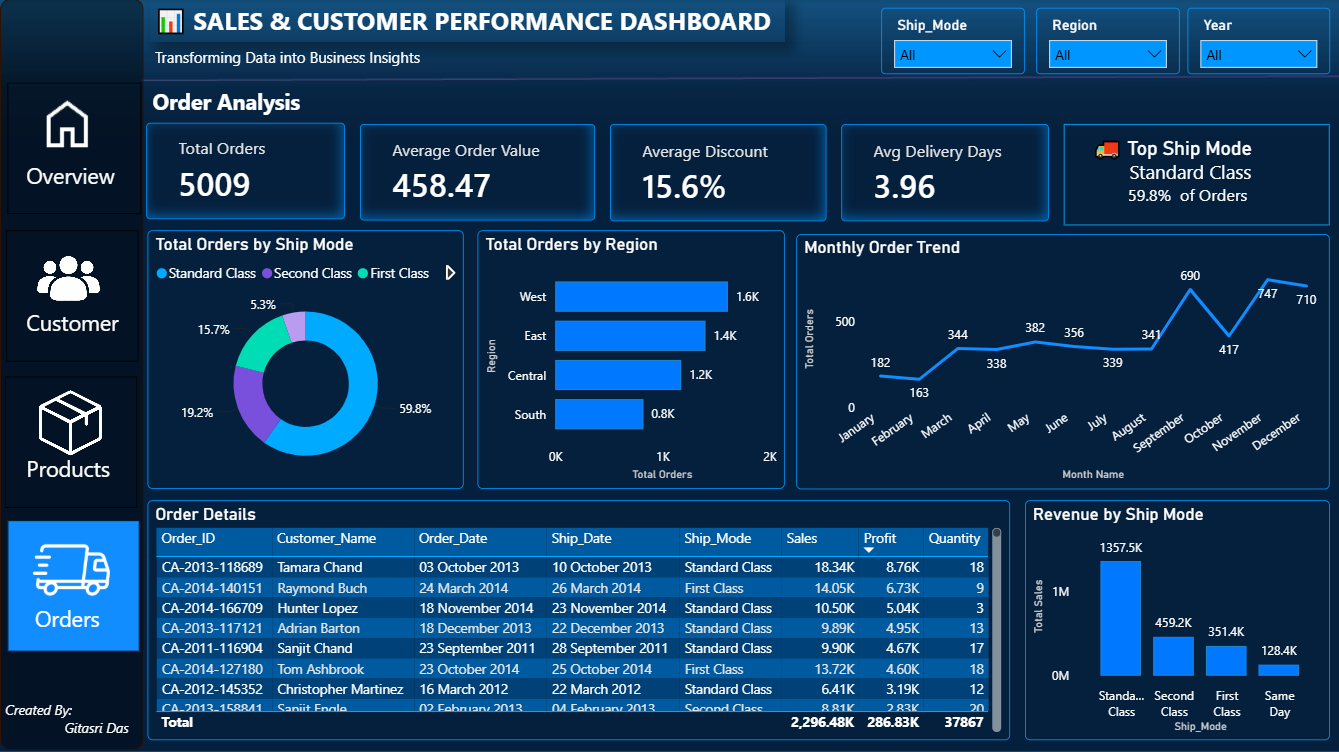

The dashboard page shown, as its layout file describes it:
{"tool":"powerbi","page":{"name":"Order Analysis Dashboard","canvas":[1325,746],"ordinal":3},"visuals":[{"type":"shape","box":[0,0,141.8,741.3],"z":0},{"type":"cardVisual","fields":{"Data":["SalesData.Total Orders"]},"box":[144.3,122.1,196.1,95],"z":1000},{"type":"cardVisual","fields":{"Data":["SalesData.Average Discount"]},"box":[601.9,123.3,213.4,96.2],"z":2000},{"type":"cardVisual","fields":{"Data":["SalesData.Average Order Value"]},"box":[355.2,123.3,231.9,95],"z":3000},{"type":"slicer","fields":{"Values":["SalesData.Region"]},"box":[1023,8.2,141.7,65.9],"z":4000},{"type":"slicer","fields":{"Values":["SalesData.Ship_Mode"]},"box":[870.1,8.2,141.7,65.9],"z":5000},{"type":"textbox","box":[147.9,0,626.5,42.3],"z":6000},{"type":"image","box":[30.8,92.5,71.5,61.7],"z":7000},{"type":"textbox","box":[21,154.2,104.8,41.9],"z":8000},{"type":"textbox","box":[147.9,42.3,274.7,41],"z":9000},{"type":"textbox","box":[145.5,81.4,249.2,54.3],"z":10000},{"type":"shape","box":[7.4,82.6,132,129.5],"z":11000},{"type":"textbox","box":[30.4,591.6,91.3,40.7],"z":12000,"group":"g2"},{"type":"textbox","box":[0,687.4,135.5,54.7],"z":12000},{"type":"shape","box":[6.2,228.2,130.7,129.5],"z":13000},{"type":"image","box":[17.7,525,106.5,76.1],"z":13000,"group":"g2"},{"type":"group","id":"g1","title":"Group 1","box":[21.6,232.1,104,107.8],"z":14000},{"type":"slicer","fields":{"Values":["DateTable.Year"]},"box":[1171.8,8.6,140.6,65.4],"z":15000},{"type":"tableEx","title":"Order Details","fields":{"Values":["SalesData.Order_ID","SalesData.Customer_Name","SalesData.Order_Date","SalesData.Ship_Date","SalesData.Ship_Mode","Sum(SalesData.Sales)","Sum(SalesData.Profit)","SalesData.Total Quantity Sold"]},"box":[145.8,494.6,851,237.2],"z":16000},{"type":"donutChart","title":"Total Orders by Ship Mode","fields":{"Category":["SalesData.Ship_Mode"],"Y":["SalesData.Total Orders"]},"box":[145.5,228.2,312.1,255.3],"z":17000},{"type":"lineChart","title":"Monthly Order Trend","fields":{"Y":["SalesData.Total Orders"],"Category":["DateTable.Month Name"]},"box":[785.7,231.9,526.7,251.6],"z":18000},{"type":"barChart","fields":{"Y":["SalesData.Total Orders"],"Category":["SalesData.Region"]},"box":[471.8,228.3,303.1,254.9],"z":19000},{"type":"shape","box":[7.6,514.9,130.6,129.4],"z":20000},{"type":"group","id":"g2","title":"Group 2","box":[17.7,525,106.5,107.3],"z":21000},{"type":"columnChart","title":"Revenue by Ship Mode","fields":{"Category":["SalesData.Ship_Mode"],"Y":["Sum(SalesData.Sales)"]},"box":[1011.4,494.6,301,236.8],"z":22000},{"type":"cardVisual","fields":{"Data":["SalesData.Avg Delivery Days"]},"box":[830.1,123.3,204.8,96.2],"z":23000},{"type":"shape","box":[4.9,372.5,130.7,129.5],"z":24000},{"type":"group","id":"g3","title":"Group 1","box":[21,377.2,104.8,107.6],"z":25000},{"type":"shape","box":[1049.7,123.3,262.7,99.9],"z":26000},{"type":"textbox","title":"🚚 Top Ship Mode","box":[1073.1,130.7,197.4,86.3],"z":27000},{"type":"image","box":[27.8,232.1,86.3,98.7],"z":29000,"group":"g1"},{"type":"image","box":[26,377.2,87.6,80.2],"z":29000,"group":"g3"},{"type":"textbox","box":[21.6,299.9,104.8,40.7],"z":31000,"group":"g1"},{"type":"textbox","box":[21,444.1,104.8,40.7],"z":31000,"group":"g3"}]}

Visuals, with their boxes in screenshot pixels (x1, y1, x2, y2), scaled from the page's 1325x746 canvas onto the 1339x752 screenshot:
shape: x1=0, y1=0, x2=143, y2=747
cardVisual - SalesData.Total Orders: x1=146, y1=123, x2=344, y2=219
cardVisual - SalesData.Average Discount: x1=608, y1=124, x2=824, y2=221
cardVisual - SalesData.Average Order Value: x1=359, y1=124, x2=593, y2=220
slicer - SalesData.Region: x1=1034, y1=8, x2=1177, y2=75
slicer - SalesData.Ship_Mode: x1=879, y1=8, x2=1022, y2=75
textbox: x1=149, y1=0, x2=783, y2=43
image: x1=31, y1=93, x2=103, y2=155
textbox: x1=21, y1=155, x2=127, y2=198
textbox: x1=149, y1=43, x2=427, y2=84
textbox: x1=147, y1=82, x2=399, y2=137
shape: x1=7, y1=83, x2=141, y2=214
textbox: x1=31, y1=596, x2=123, y2=637
textbox: x1=0, y1=693, x2=137, y2=748
shape: x1=6, y1=230, x2=138, y2=361
image: x1=18, y1=529, x2=126, y2=606
"Group 1" group: x1=22, y1=234, x2=127, y2=343
slicer - DateTable.Year: x1=1184, y1=9, x2=1326, y2=75
"Order Details" tableEx: x1=147, y1=499, x2=1007, y2=738
"Total Orders by Ship Mode" donutChart: x1=147, y1=230, x2=462, y2=487
"Monthly Order Trend" lineChart: x1=794, y1=234, x2=1326, y2=487
barChart - SalesData.Total Orders x SalesData.Region: x1=477, y1=230, x2=783, y2=487
shape: x1=8, y1=519, x2=140, y2=649
"Group 2" group: x1=18, y1=529, x2=126, y2=637
"Revenue by Ship Mode" columnChart: x1=1022, y1=499, x2=1326, y2=737
cardVisual - SalesData.Avg Delivery Days: x1=839, y1=124, x2=1046, y2=221
shape: x1=5, y1=375, x2=137, y2=506
"Group 1" group: x1=21, y1=380, x2=127, y2=489
shape: x1=1061, y1=124, x2=1326, y2=225
"🚚 Top Ship Mode" textbox: x1=1084, y1=132, x2=1284, y2=219
image: x1=28, y1=234, x2=115, y2=333
image: x1=26, y1=380, x2=115, y2=461
textbox: x1=22, y1=302, x2=128, y2=343
textbox: x1=21, y1=448, x2=127, y2=489
